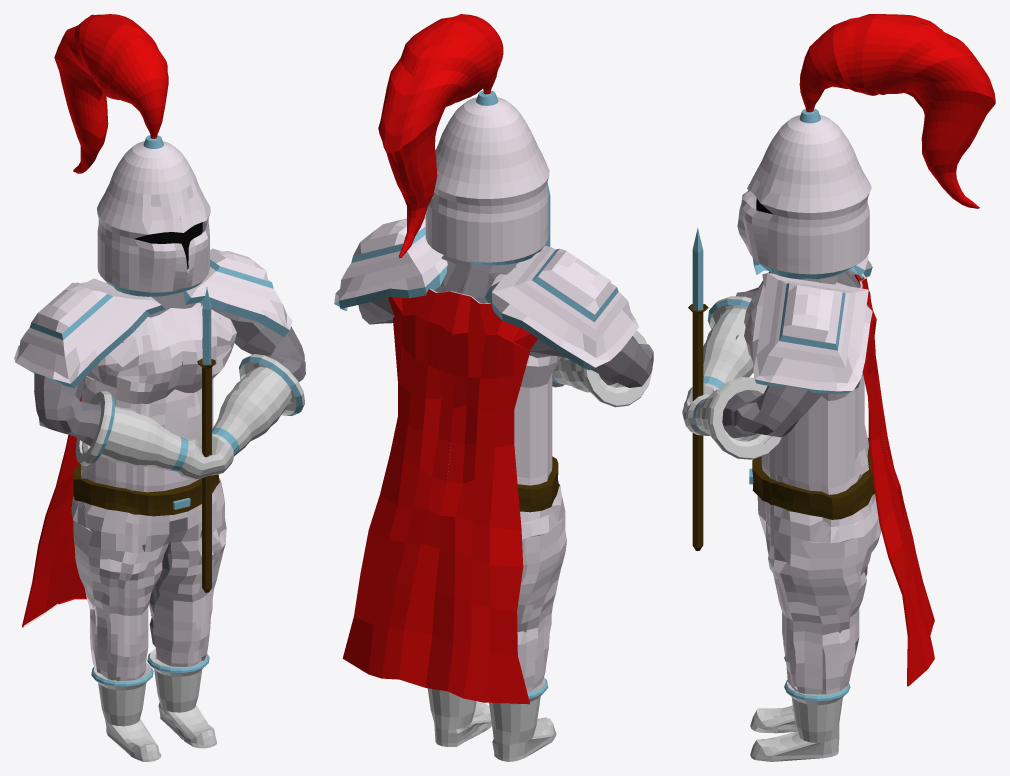
Rendered from Model Knight.fbx.
3 renders of one model, left to right at view 1: azimuth 30°, elevation 25°; view 2: azimuth 150°, elevation 25°; view 3: azimuth 270°, elevation 25°, orthographic. The views are drawn at different scales.
Visible parts, largest first — view 1: Torse into pantalon, casque, Epaulières, Gants, Le corps, Bottes, Lance; view 2: Epaulières, casque, Torse into pantalon, Bottes, Le corps, Gants; view 3: casque, Torse into pantalon, Epaulières, Gants, Bottes, Le corps, Lance.
Part boxes in pixels (x1,y1,x2,y2): Torse into pantalon: (71,302,236,681); casque: (54,14,210,296); Epaulières: (14,248,292,627); Gants: (75,354,304,479); Le corps: (34,219,305,653); Bottes: (91,648,216,761); Lance: (197,287,215,592); Epaulières: (334,216,638,704); casque: (378,14,549,265); Torse into pantalon: (514,355,566,692); Bottes: (427,677,556,761); Le corps: (358,255,653,505); Gants: (552,330,652,407); casque: (737,14,995,279); Torse into pantalon: (744,272,881,694); Epaulières: (752,255,934,686); Gants: (682,296,781,459); Bottes: (750,655,850,761); Le corps: (722,198,867,576); Lance: (688,228,708,550).
Size of the model in its own units: 355 by 889 by 349.
